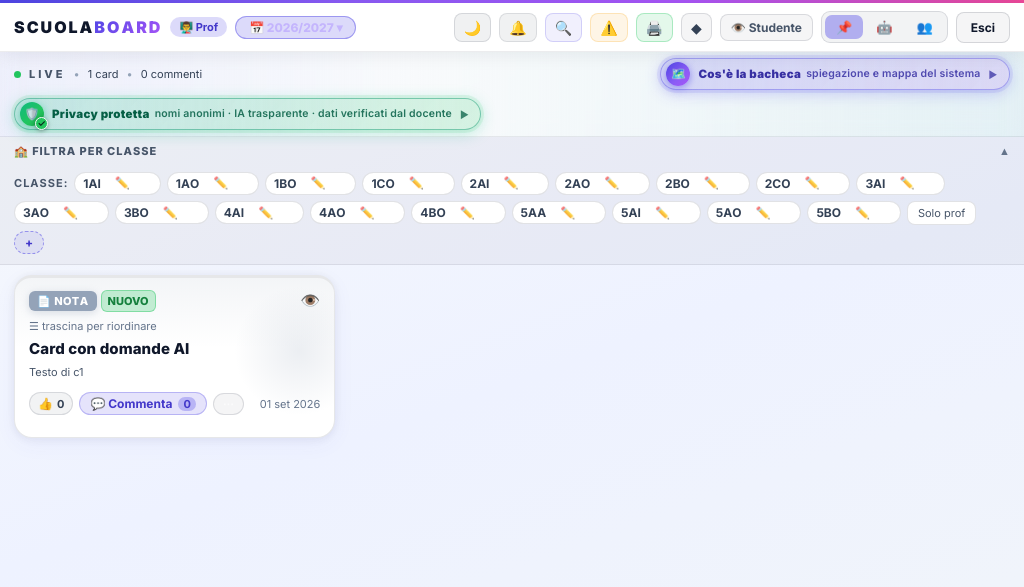
Test: Eliminazione analisi AI (prof) › elimina la cronologia delle domande all'AI preservando l'analisi
Click the text "Card con domande AI" at (109, 348), box [29,338,189,358]
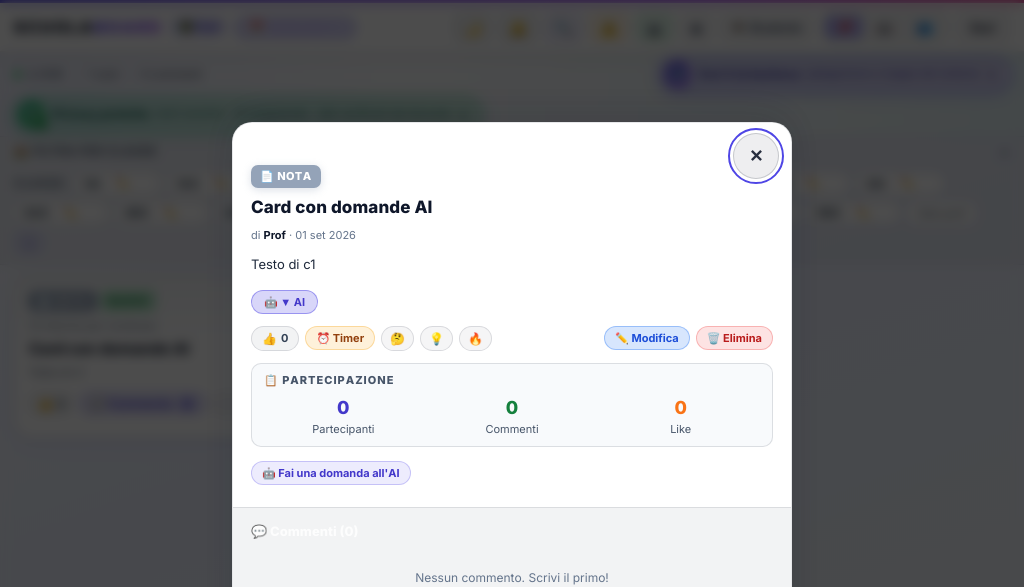
Note: Apre il riquadro "Fai una domanda all'AI" (CardDetail è lazy → findByRole)
Click the button "🤖 Fai una domanda all'AI" at (331, 472), box [251,460,410,484]
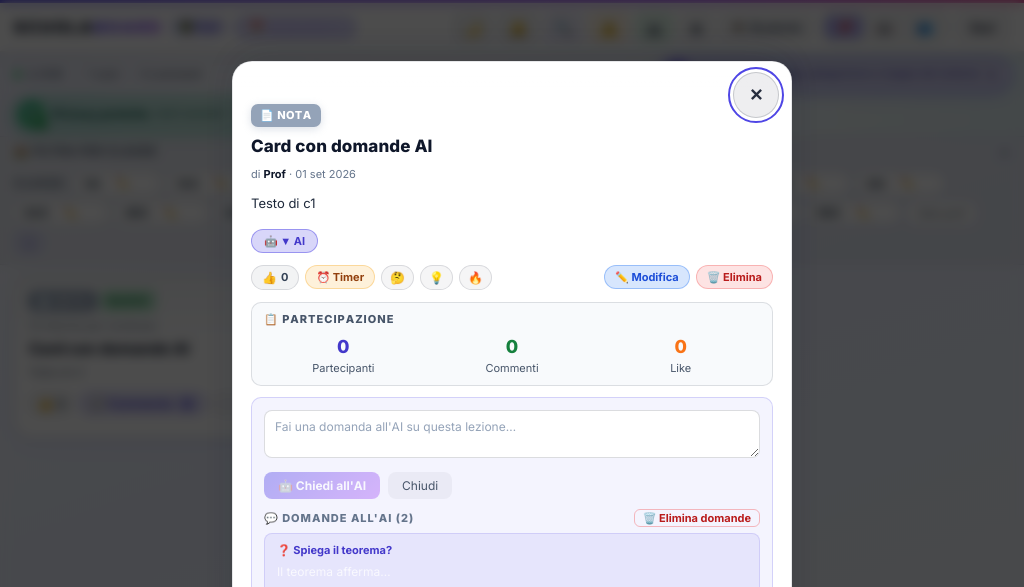
Check: the text "❓ Spiega il teorema?" is shown, box [277,544,392,558]
Click the button "🗑️ Elimina domande" at (697, 518), box [634,510,760,528]
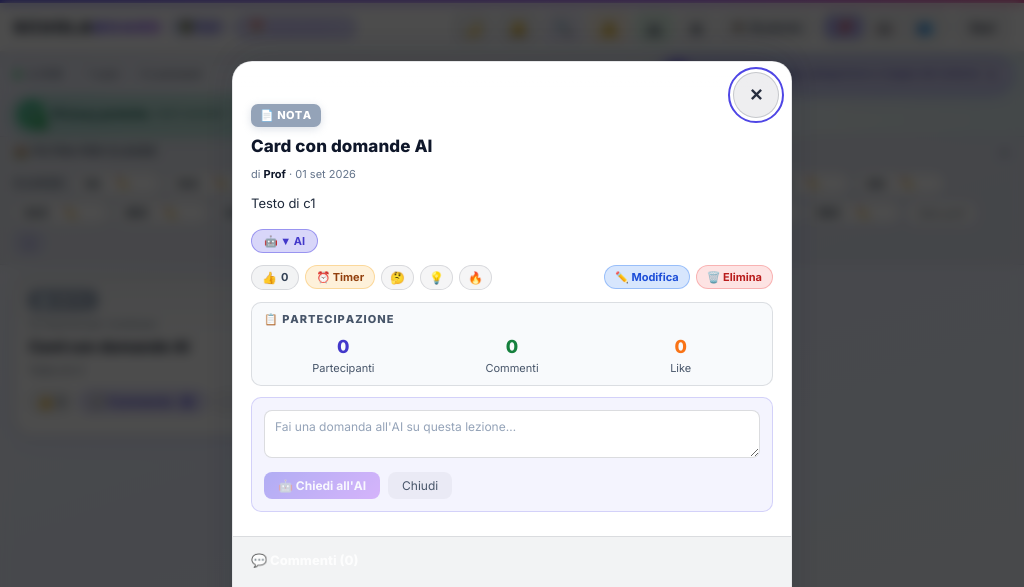
Check: the text "Spiega il teorema" is gone
